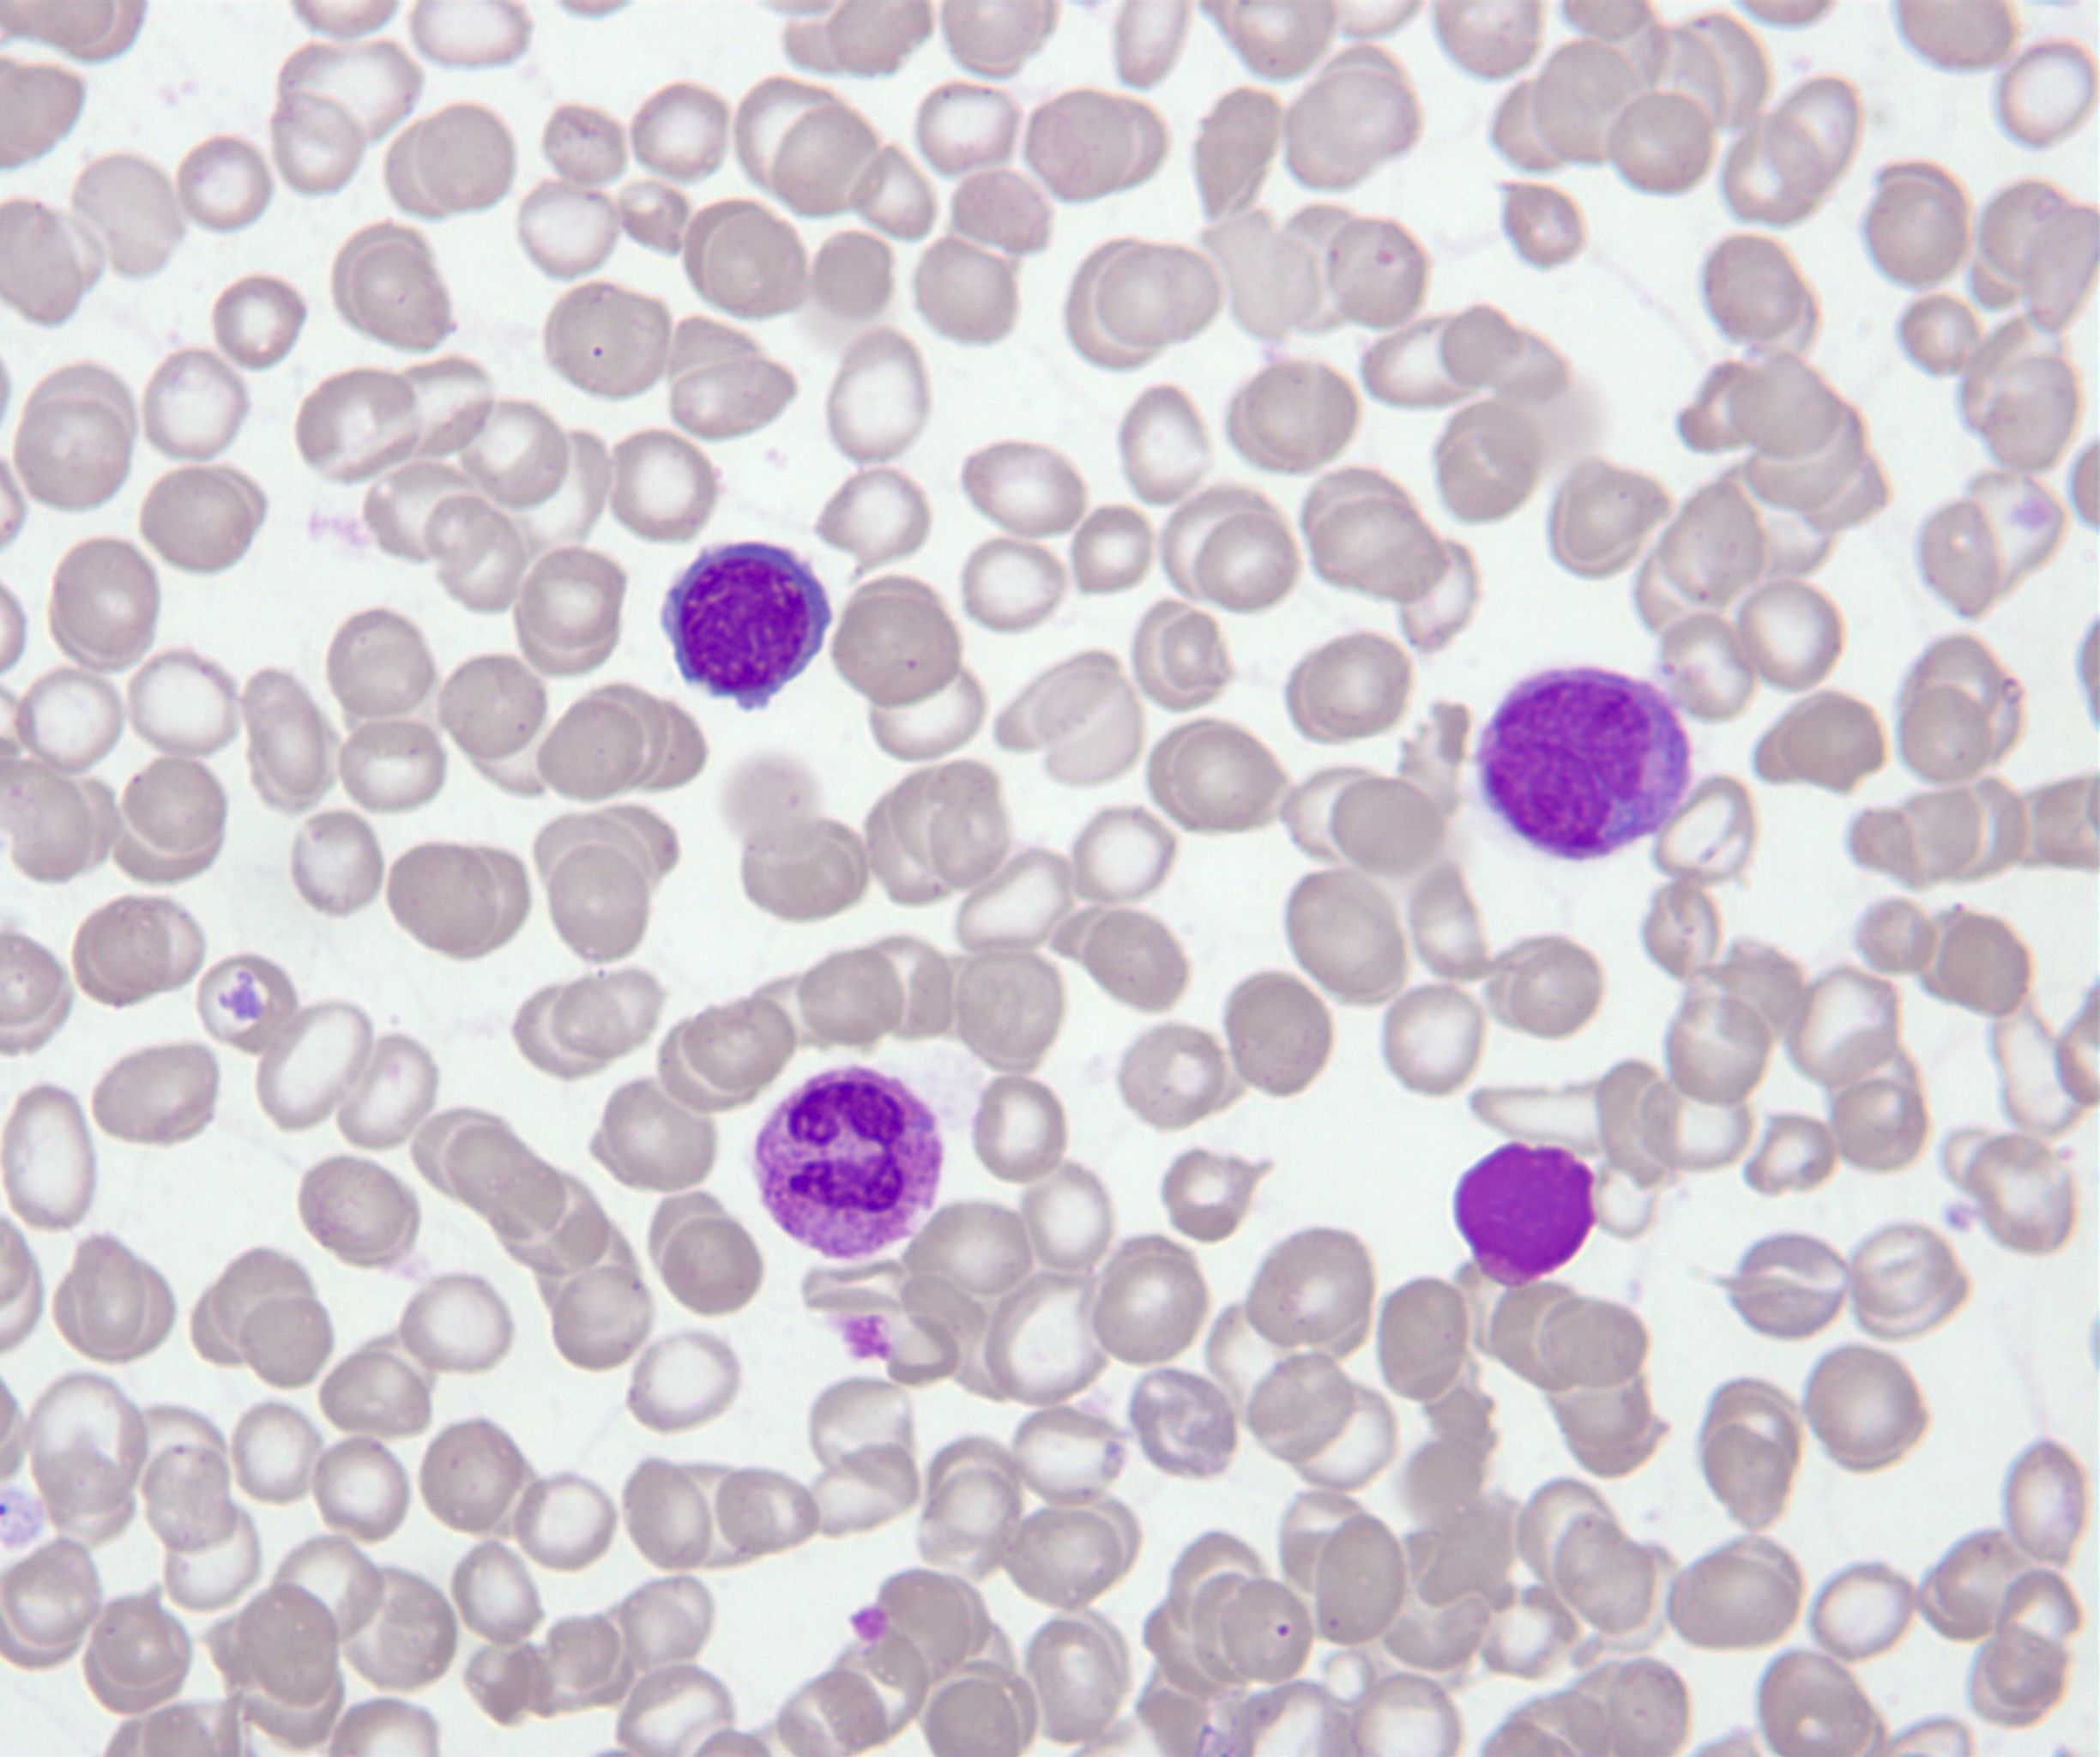23: (663, 544, 832, 708)
42: (1477, 670, 1688, 858)
6: (755, 1070, 944, 1260)
x: (1455, 1139, 1594, 1289)
